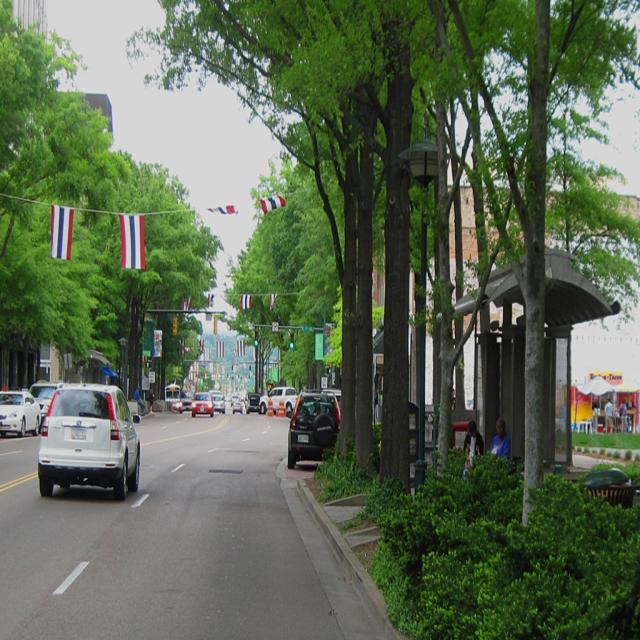car: (31, 376, 136, 504)
